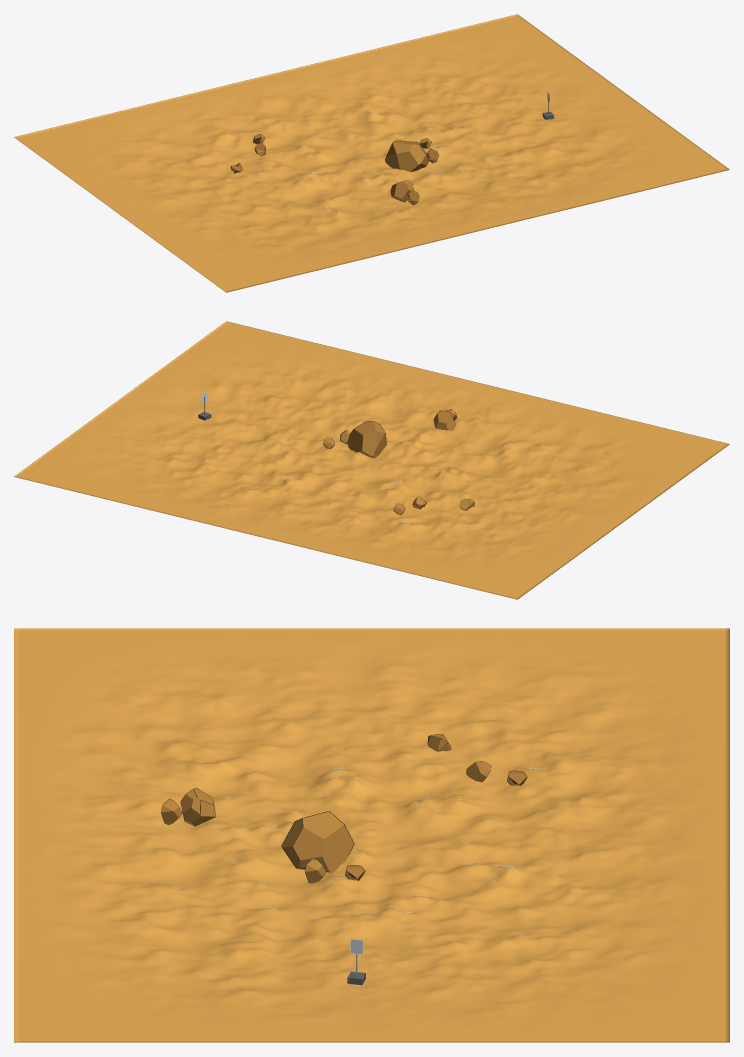
The model's file is scene_1_testb.glb.
The picture shows the model from 3 angles, top to bottom: view 1: azimuth 30°, elevation 25°; view 2: azimuth 150°, elevation 25°; view 3: azimuth 270°, elevation 25°; orthographic projection. The views are drawn at different scales.
Visible parts, largest first — view 1: Landscape.002, Cube.005; view 2: Landscape.002, Cube.005; view 3: Landscape.002, Cube.005, Cube.003.
Part boxes in pixels (left/top/right/bottom): Landscape.002: left=14, top=14, right=729, bottom=292; Cube.005: left=385, top=140, right=428, bottom=171; Landscape.002: left=14, top=321, right=729, bottom=599; Cube.005: left=348, top=421, right=386, bottom=458; Landscape.002: left=14, top=628, right=729, bottom=1042; Cube.005: left=281, top=811, right=354, bottom=872; Cube.003: left=180, top=788, right=215, bottom=826.
Size of the model in its own units: 64.65 by 4.76 by 47.23.
